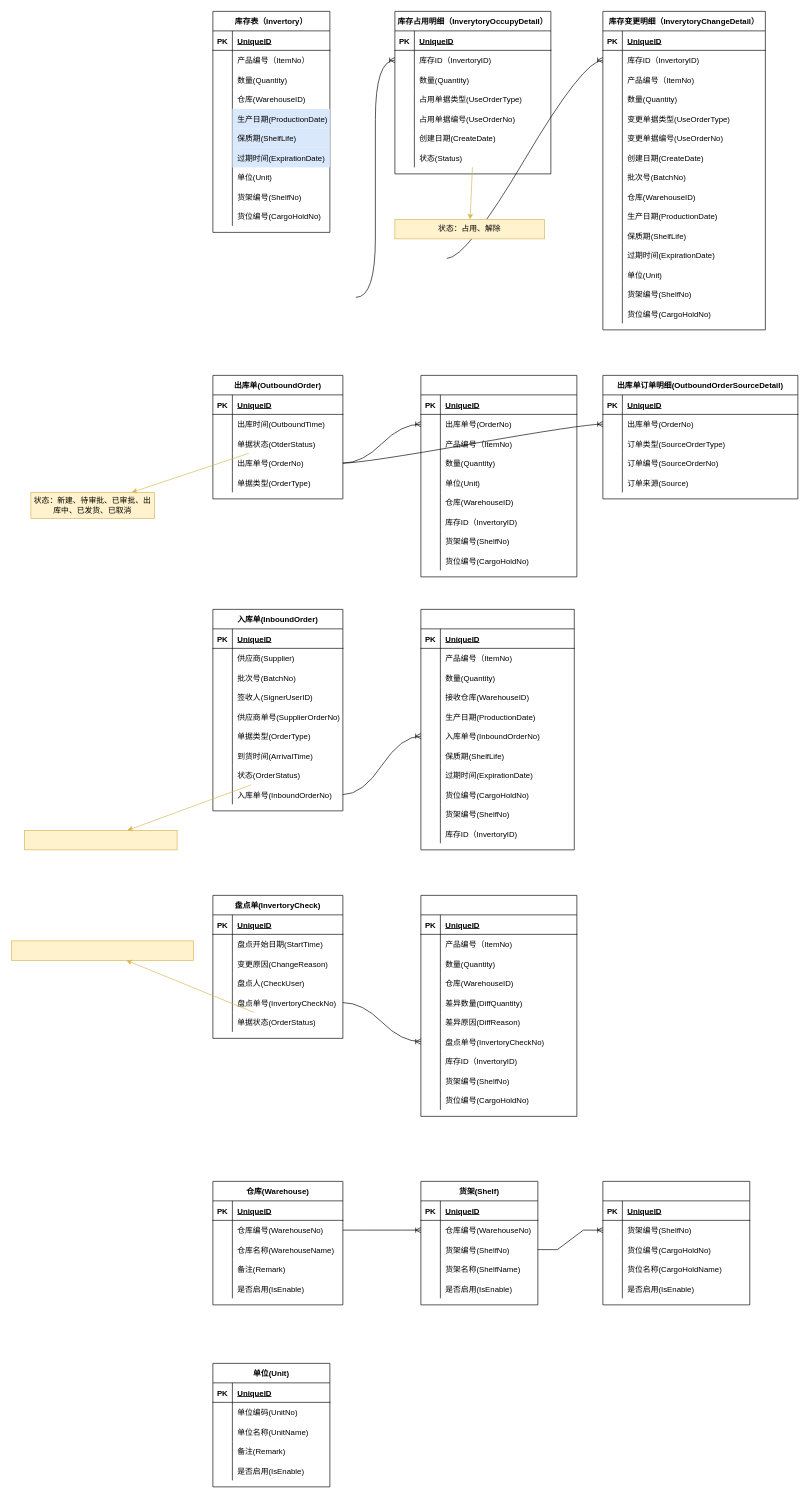
Some shapes in this 809 by 1498 pixel diagram are drawn without their labels. The shapes that lost their labels are listed below. From the top down, each one's box as (x1, y1, x2, y2) in pixels, then its label:
(420, 375, 577, 577): 出库明细(OutboundOrderItemDetail)
(420, 609, 574, 850): 入库明细(InboundOrderDetail)
(24, 830, 177, 850): 状态：新建、已取消、已入库、已冲减
(11, 940, 193, 960): 状态：新建、待审批、已审批、已入库、已取消
(420, 895, 577, 1116): 盘点变更明细(InvertoryCheckDetail)
(602, 1181, 750, 1305): 货位(CargoHold)
